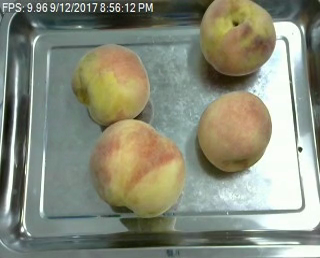Peach: (91, 117, 185, 217), (71, 42, 151, 125), (197, 89, 272, 170), (198, 0, 276, 76)
